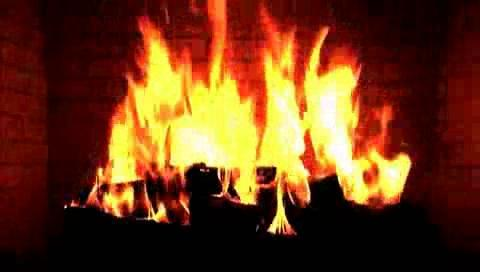fire: (82, 0, 474, 230)
